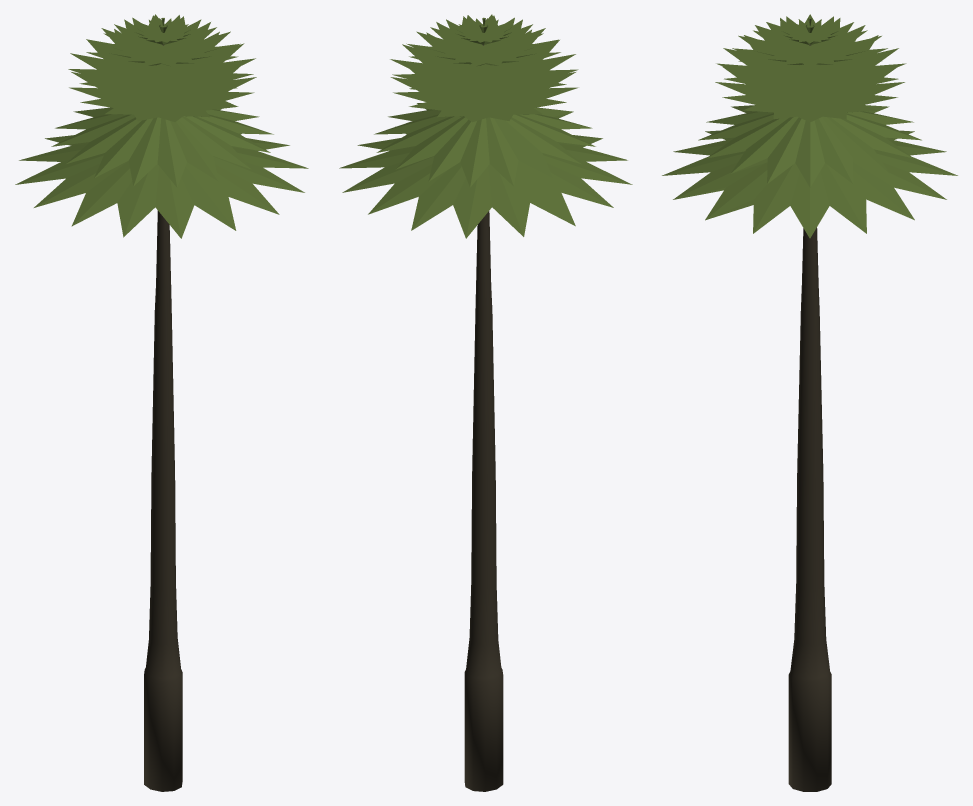
The model's file is SM_Pine_02.fbx.
3 renders of one model, left to right at view 1: azimuth 30°, elevation 25°; view 2: azimuth 150°, elevation 25°; view 3: azimuth 270°, elevation 25°, orthographic.
Parts seen in each view (by area): view 1: Copa de Pino; view 2: Copa de Pino; view 3: Copa de Pino.
Boxes of the visible parts, <box> form: Copa de Pino: <box>15,14,308,791</box>; Copa de Pino: <box>339,14,632,791</box>; Copa de Pino: <box>662,14,957,791</box>.
Size of the model in its own units: 7.16 by 20.32 by 7.16.
Materials: 1 (1 with a texture image).
